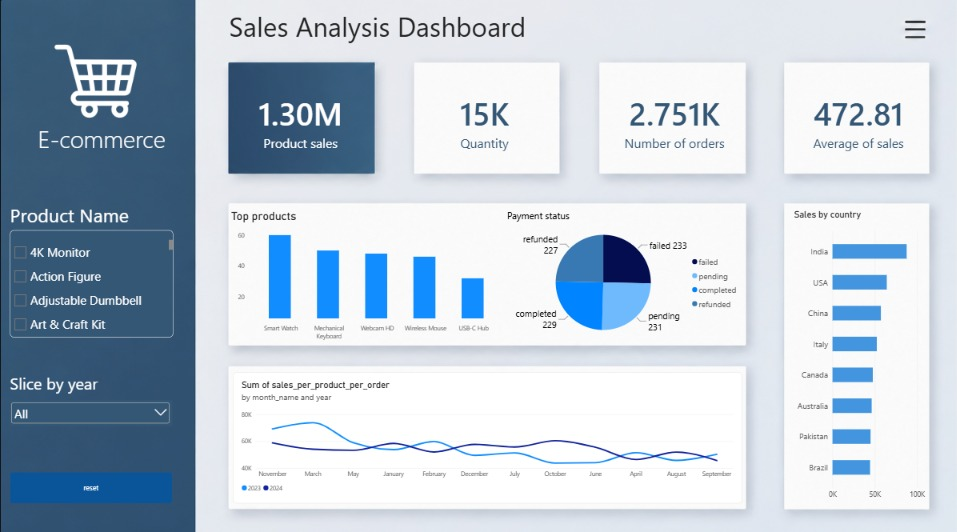

The page's visual inventory and layout, read from the dashboard file:
{"tool":"powerbi","page":{"name":"Page 1","canvas":[1920,1070],"ordinal":0},"visuals":[{"type":"clusteredBarChart","title":"Sales by country","fields":{"Category":["customers.country"],"Y":["Sum(FactOrderItem.sales_per_product_per_order)"]},"box":[1572,406,294,614],"z":0},{"type":"slicer","fields":{"Values":["products.product_name"]},"box":[20,462,326,214],"z":1000},{"type":"textbox","box":[20,406,342,134],"z":2000},{"type":"image","box":[70,82,242,164],"z":3000},{"type":"textbox","box":[76,246,288,128],"z":4000},{"type":"cardVisual","fields":{"Data":["Sum(FactOrderItem.sales_per_product_per_order)"]},"box":[465,142.5,270,198],"z":5000},{"type":"cardVisual","fields":{"Data":["Sum(FactOrderItem.sales_quantity)"]},"box":[834,146,270,198],"z":6000},{"type":"cardVisual","fields":{"Data":["CountNonNull(FactOrderItem.order_id)"]},"box":[1214,146,270,198],"z":7000},{"type":"cardVisual","fields":{"Data":["Avg(FactOrderItem.sales_per_product_per_order)"]},"box":[1582,146,270,198],"z":8000},{"type":"lineChart","fields":{"Category":["DimDate.month_name"],"Series":["DimDate.year"],"Y":["Sum(FactOrderItem.sales_per_product_per_order)"]},"box":[466,746,1018,262],"z":9000},{"type":"clusteredColumnChart","title":"Top products","fields":{"Category":["products.product_name"],"Y":["CountNonNull(FactOrderItem.order_id)"]},"box":[446,406,580,294],"z":10000},{"type":"pieChart","title":"Payment status","fields":{"Category":["FactOrderItem.payment_status"],"Y":["Count(FactOrderItem.order_id)"]},"box":[1014,420,484,294],"z":11000},{"type":"textbox","box":[1014,420,300,66],"z":11001},{"type":"slicer","fields":{"Values":["DimDate.year"]},"box":[20,802,326,52],"z":11002},{"type":"textbox","box":[457,18,689,92],"z":11003},{"type":"textbox","box":[20,746,200,56],"z":11004},{"type":"shape","box":[20,930,326,78],"z":11005}]}

Visuals, with their boxes in screenshot pixels (x1, y1, x2, y2), scaled from the page's 1920x1070 canvas onto the 957x532 screenshot:
"Sales by country" clusteredBarChart: select_region(784, 202, 930, 507)
slicer - products.product_name: select_region(10, 230, 172, 336)
textbox: select_region(10, 202, 180, 268)
image: select_region(35, 41, 156, 122)
textbox: select_region(38, 122, 181, 186)
cardVisual - Sum(FactOrderItem.sales_per_product_per_order): select_region(232, 71, 366, 169)
cardVisual - Sum(FactOrderItem.sales_quantity): select_region(416, 73, 550, 171)
cardVisual - CountNonNull(FactOrderItem.order_id): select_region(605, 73, 740, 171)
cardVisual - Avg(FactOrderItem.sales_per_product_per_order): select_region(789, 73, 923, 171)
lineChart - DimDate.month_name x DimDate.year: select_region(232, 371, 740, 501)
"Top products" clusteredColumnChart: select_region(222, 202, 511, 348)
"Payment status" pieChart: select_region(505, 209, 747, 355)
textbox: select_region(505, 209, 655, 242)
slicer - DimDate.year: select_region(10, 399, 172, 425)
textbox: select_region(228, 9, 571, 55)
textbox: select_region(10, 371, 110, 399)
shape: select_region(10, 462, 172, 501)
